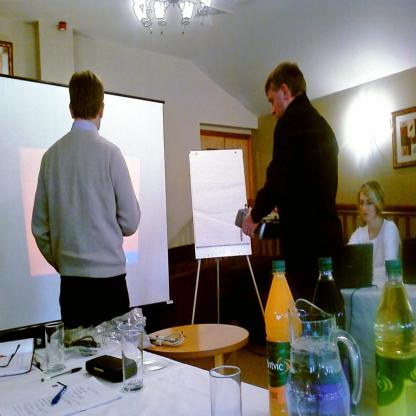face: (269, 87, 288, 121), (360, 193, 376, 222)
